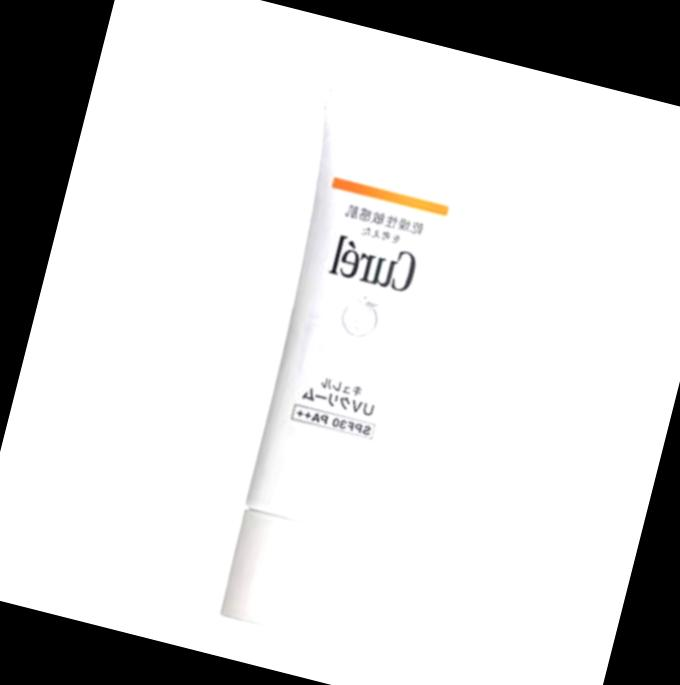cosmetic: (198, 86, 498, 650)
